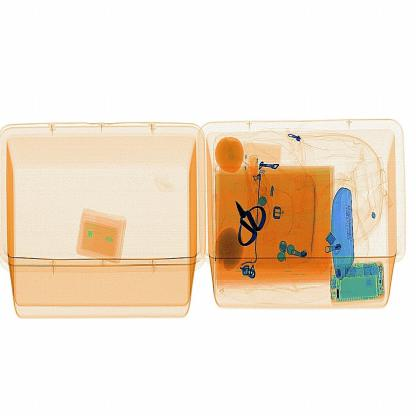gun: (226, 186, 277, 255)
